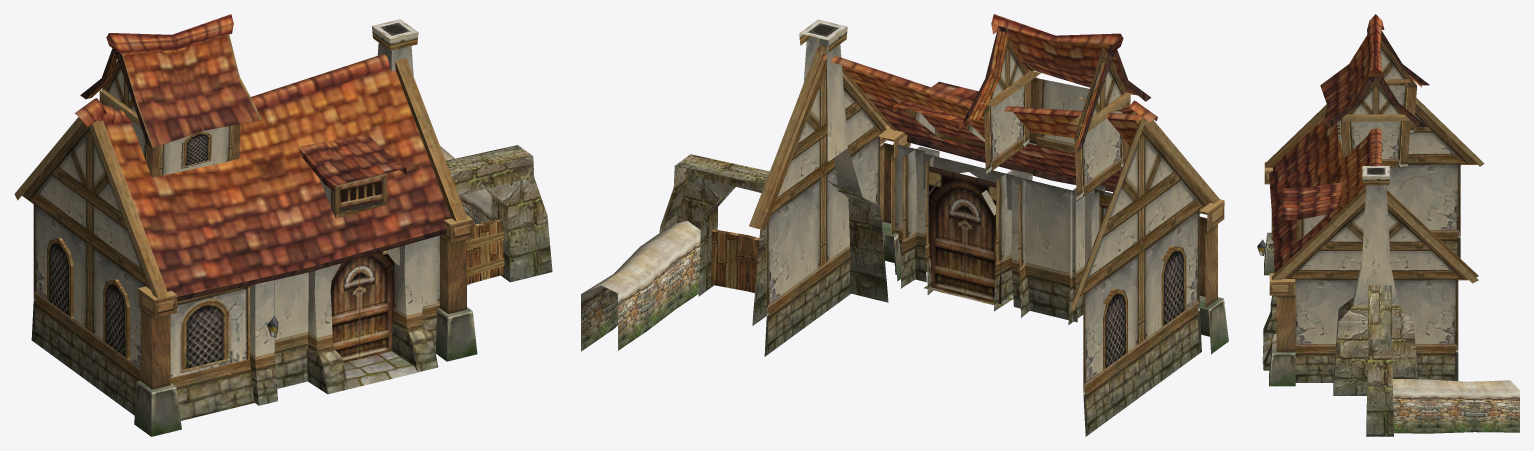
File: S_Build_City044.FBX
3 views of the same model, side by side, from view 1: azimuth 30°, elevation 25°; view 2: azimuth 150°, elevation 25°; view 3: azimuth 270°, elevation 25° (orthographic). The views are drawn at different scales.
Visible parts, largest first — view 1: S_Build_City044; view 2: S_Build_City044; view 3: S_Build_City044.
Boxes of the visible parts, left/top/right/bottom form: S_Build_City044: left=14, top=14, right=552, bottom=436; S_Build_City044: left=581, top=14, right=1228, bottom=436; S_Build_City044: left=1257, top=14, right=1519, bottom=436.
Bounding box in the file's own units: 1189 × 825 × 752.
